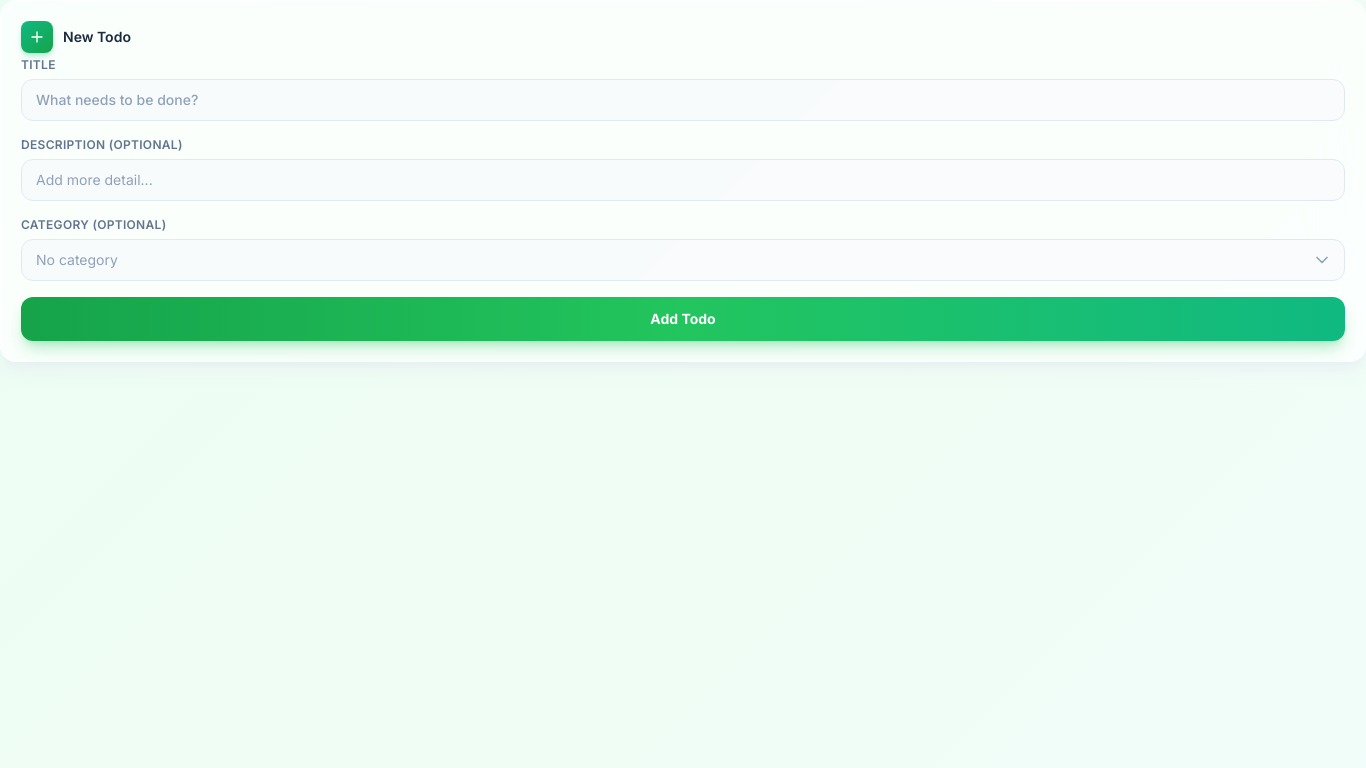
it: TodoForm › shows an error message when submitted with an empty title
What coordinates should you click on to do the following:
click the button "Add Todo"
I would click on:
 (683, 319)
Its box is top-left (21, 297), bottom-right (1345, 341).
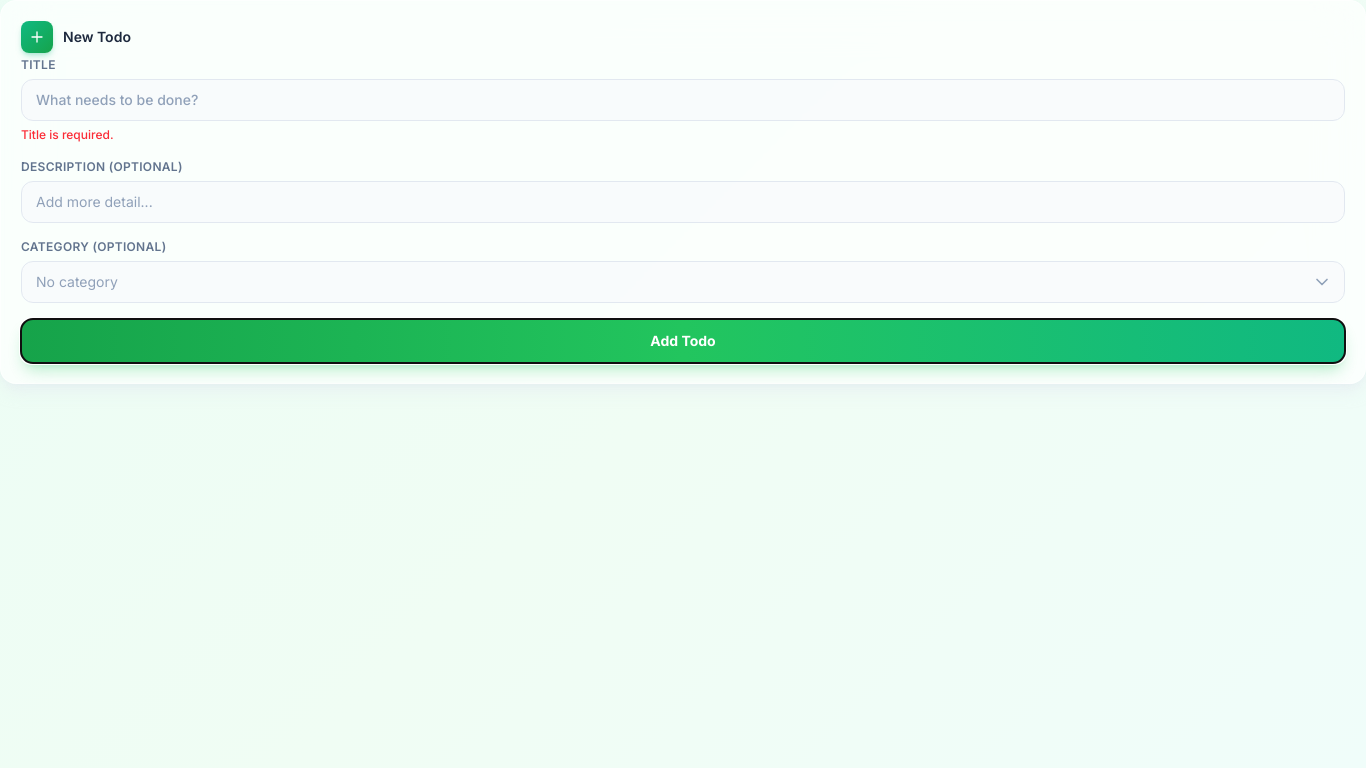
Expected: the message shows "Title is required", top-left (21, 127), bottom-right (114, 142)
